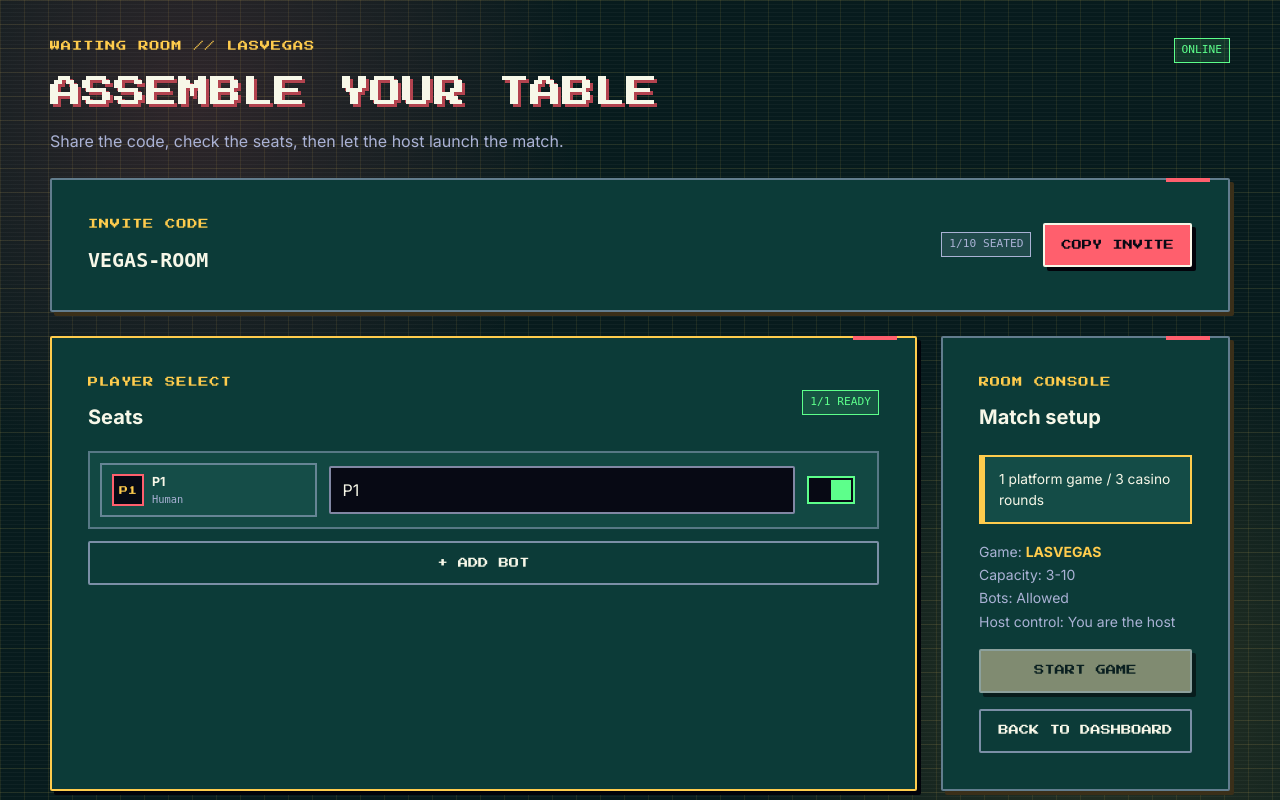
Test: public and shared page states › allows one human to add enough Las Vegas bots while keeping series controls hidden
Click the button "+ Add bot": (484, 563) top-left (88, 541), bottom-right (879, 585)
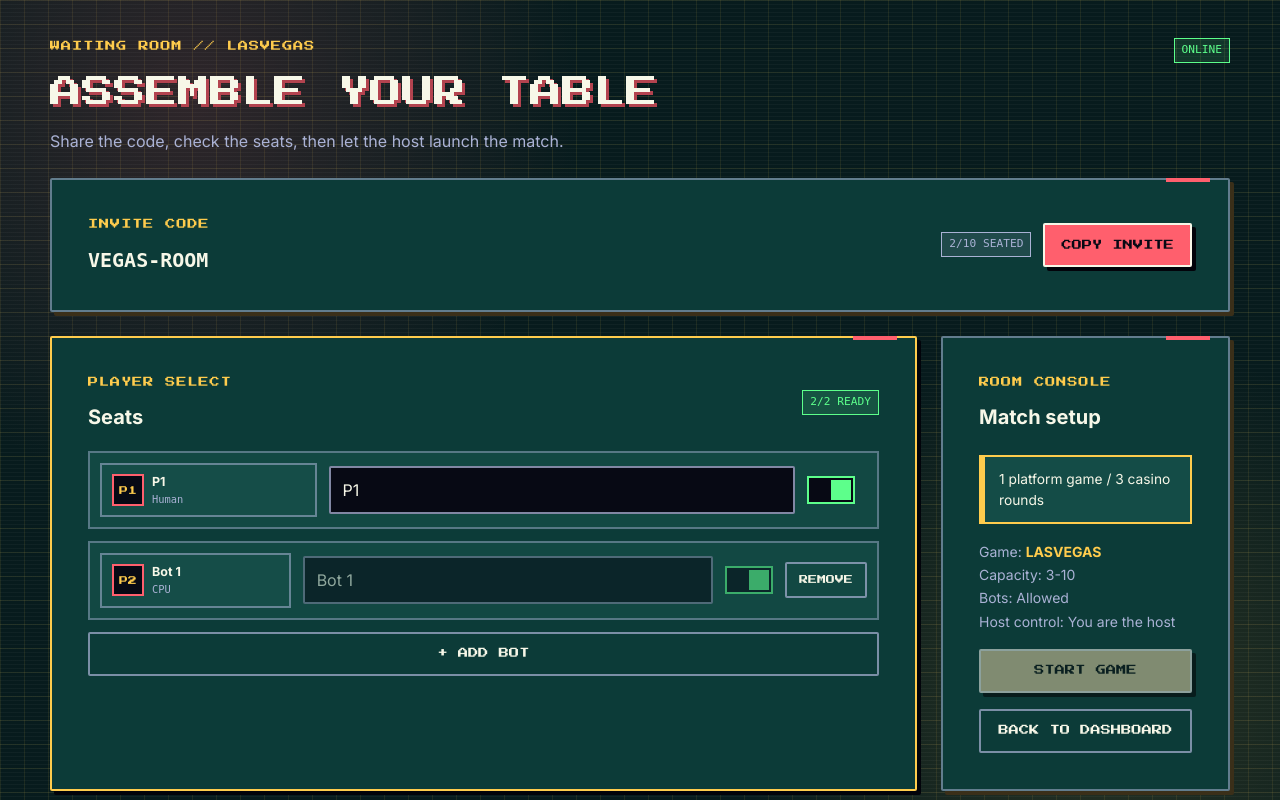
Click the button "+ Add bot": (484, 654) top-left (88, 632), bottom-right (879, 676)
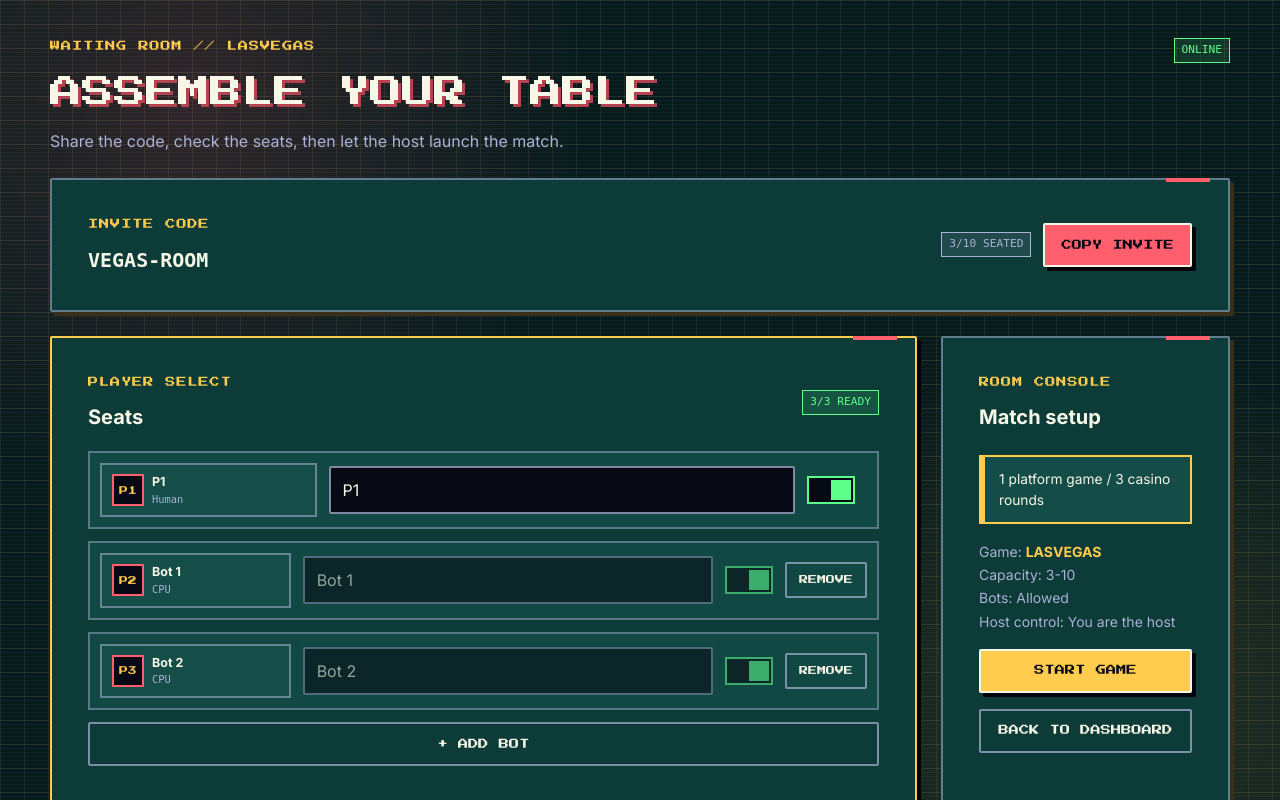
Expected: the text "1 platform game / 3 casino rounds" is shown, top-left (979, 455), bottom-right (1192, 524)
Expected: the text "3/3 ready" is shown, top-left (802, 390), bottom-right (879, 415)
Expected: the button "Start game" is enabled, top-left (979, 649), bottom-right (1192, 693)
